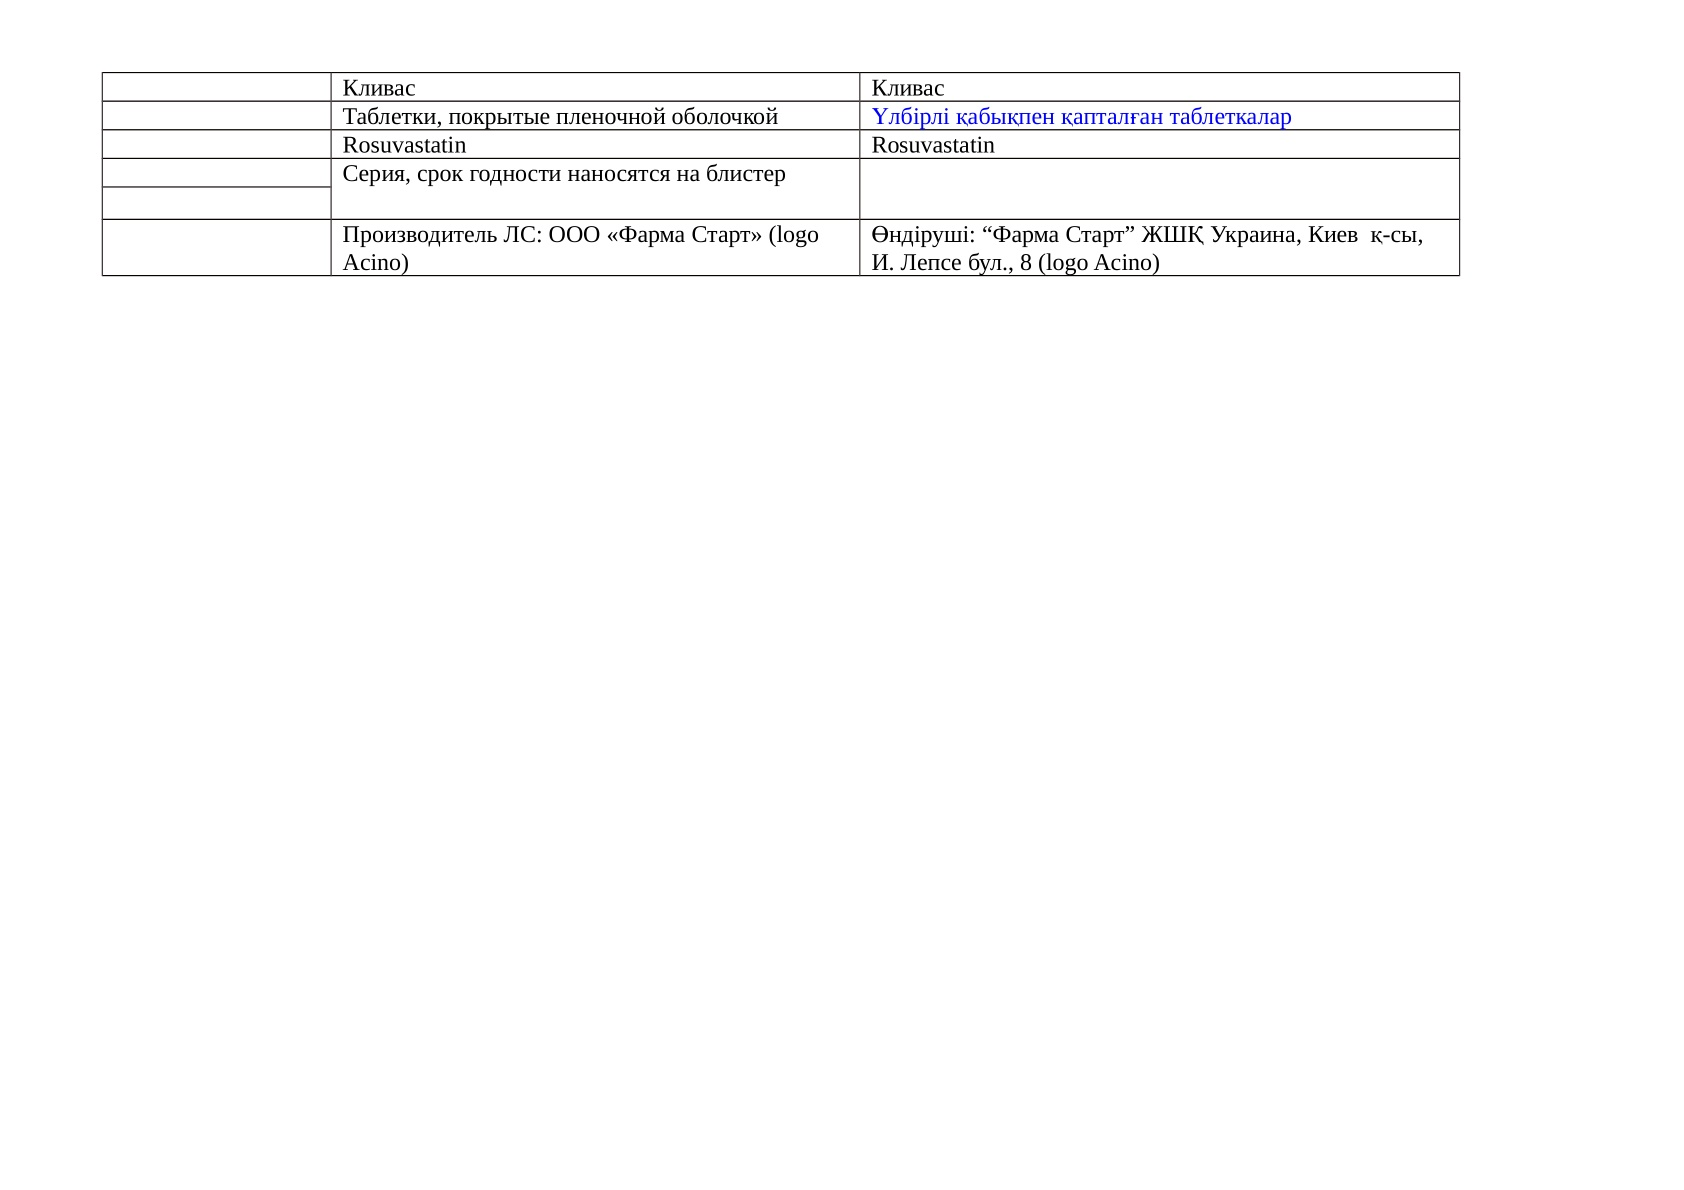merged_cells: (100, 71, 1460, 276)
